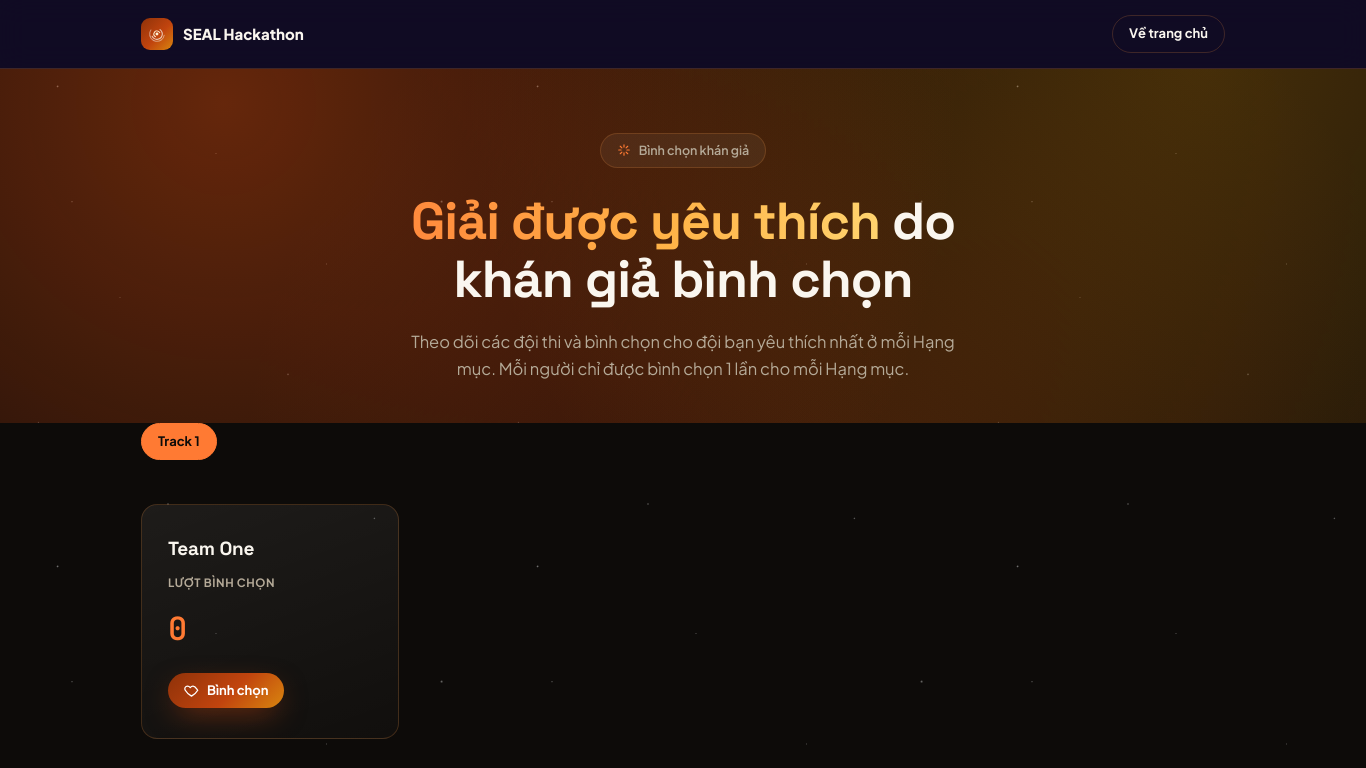
Test: VotingPage castVote › records the vote in localStorage on success
The width and height of the screenshot is (1366, 768).
Click the button "Bình chọn" at (226, 691), box top-left (168, 673), bottom-right (284, 708)
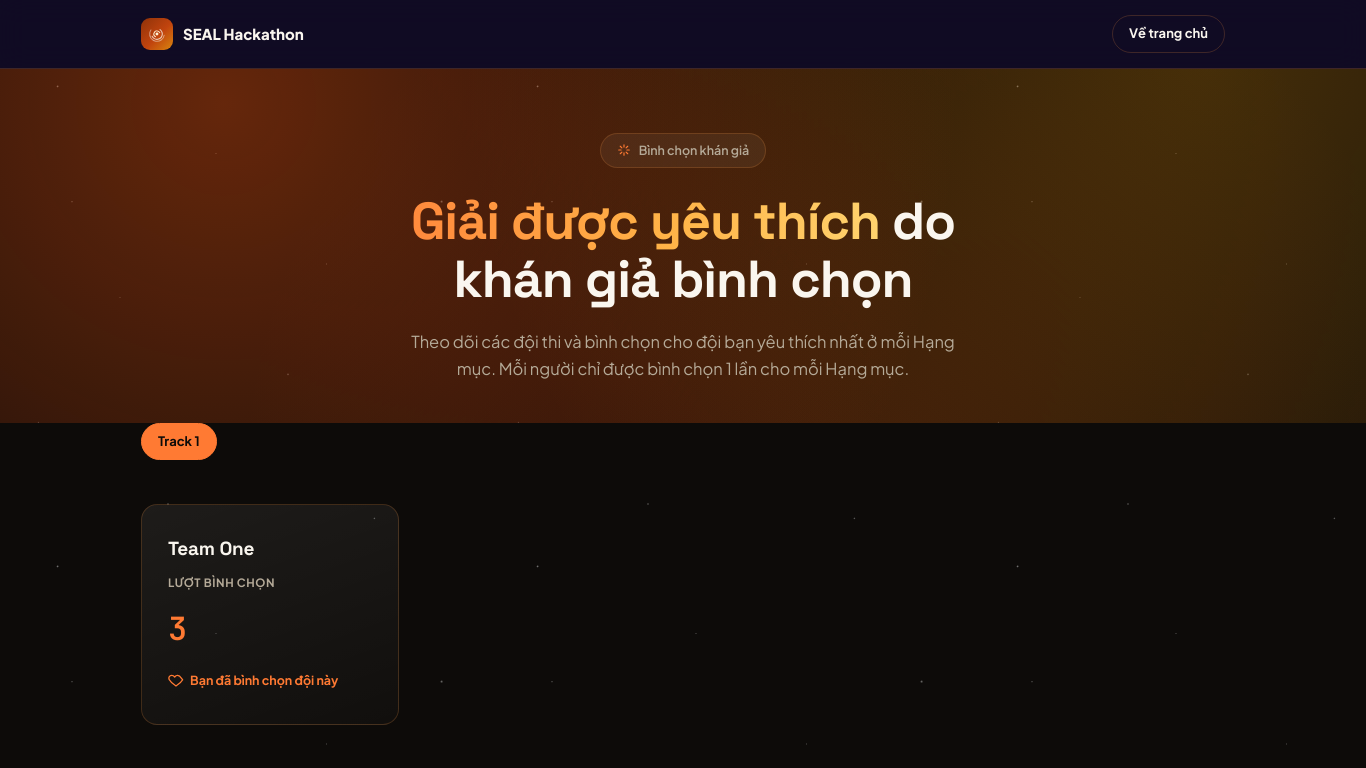
Expected: the text "Bạn đã bình chọn đội này" is shown, top-left (168, 671), bottom-right (338, 690)
